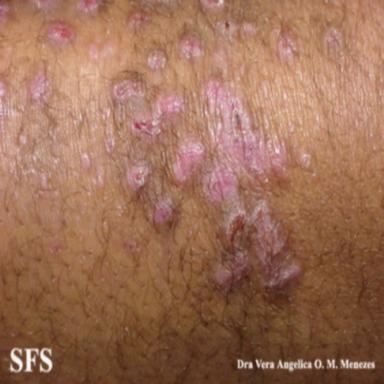Epidermolysis-Bullosa-Pruriginosa: (173, 46, 300, 289), (133, 94, 184, 136), (153, 198, 177, 232), (46, 20, 75, 45), (126, 161, 150, 191), (114, 79, 143, 102), (323, 27, 343, 59), (276, 32, 297, 62), (29, 71, 49, 101), (179, 33, 202, 59), (89, 41, 116, 61), (127, 10, 149, 30), (148, 50, 167, 70), (77, 0, 99, 14), (221, 20, 236, 38), (200, 0, 224, 11), (103, 134, 115, 154), (35, 1, 55, 11), (0, 2, 9, 21), (243, 23, 257, 35), (301, 154, 311, 168), (0, 79, 6, 100)
